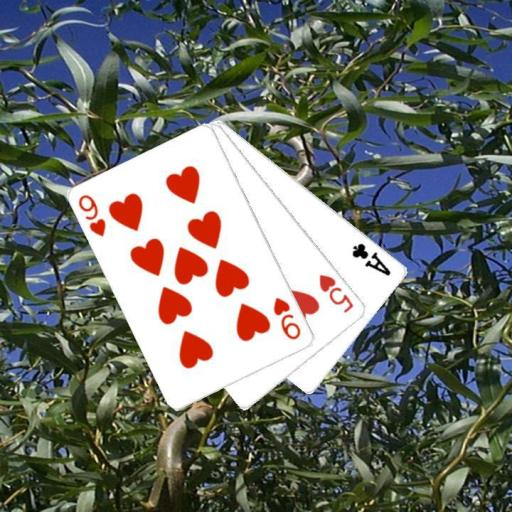5H: (316, 271, 356, 315)
9H: (270, 294, 303, 342), (75, 192, 108, 239)
AC: (349, 240, 393, 278)
